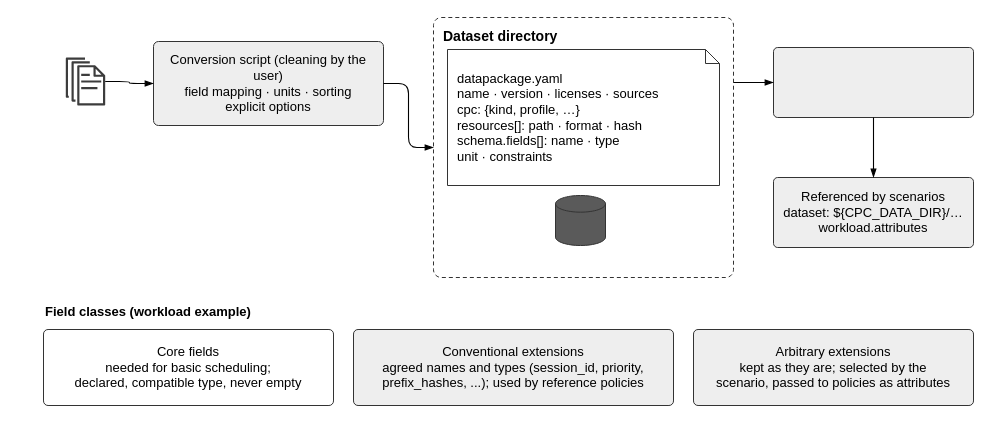
Some shapes in this 991 by 423 pixel diagram are drawn without their labels. The centre of each missing label's shape, as x and y in pixels:
cpc data check descriptor · kind specification field types and constraints: the point at 873,82
Raw data CSV · JSONL · Parquet: the point at 85,81
requests.parquet / signals.csv: the point at 580,220
